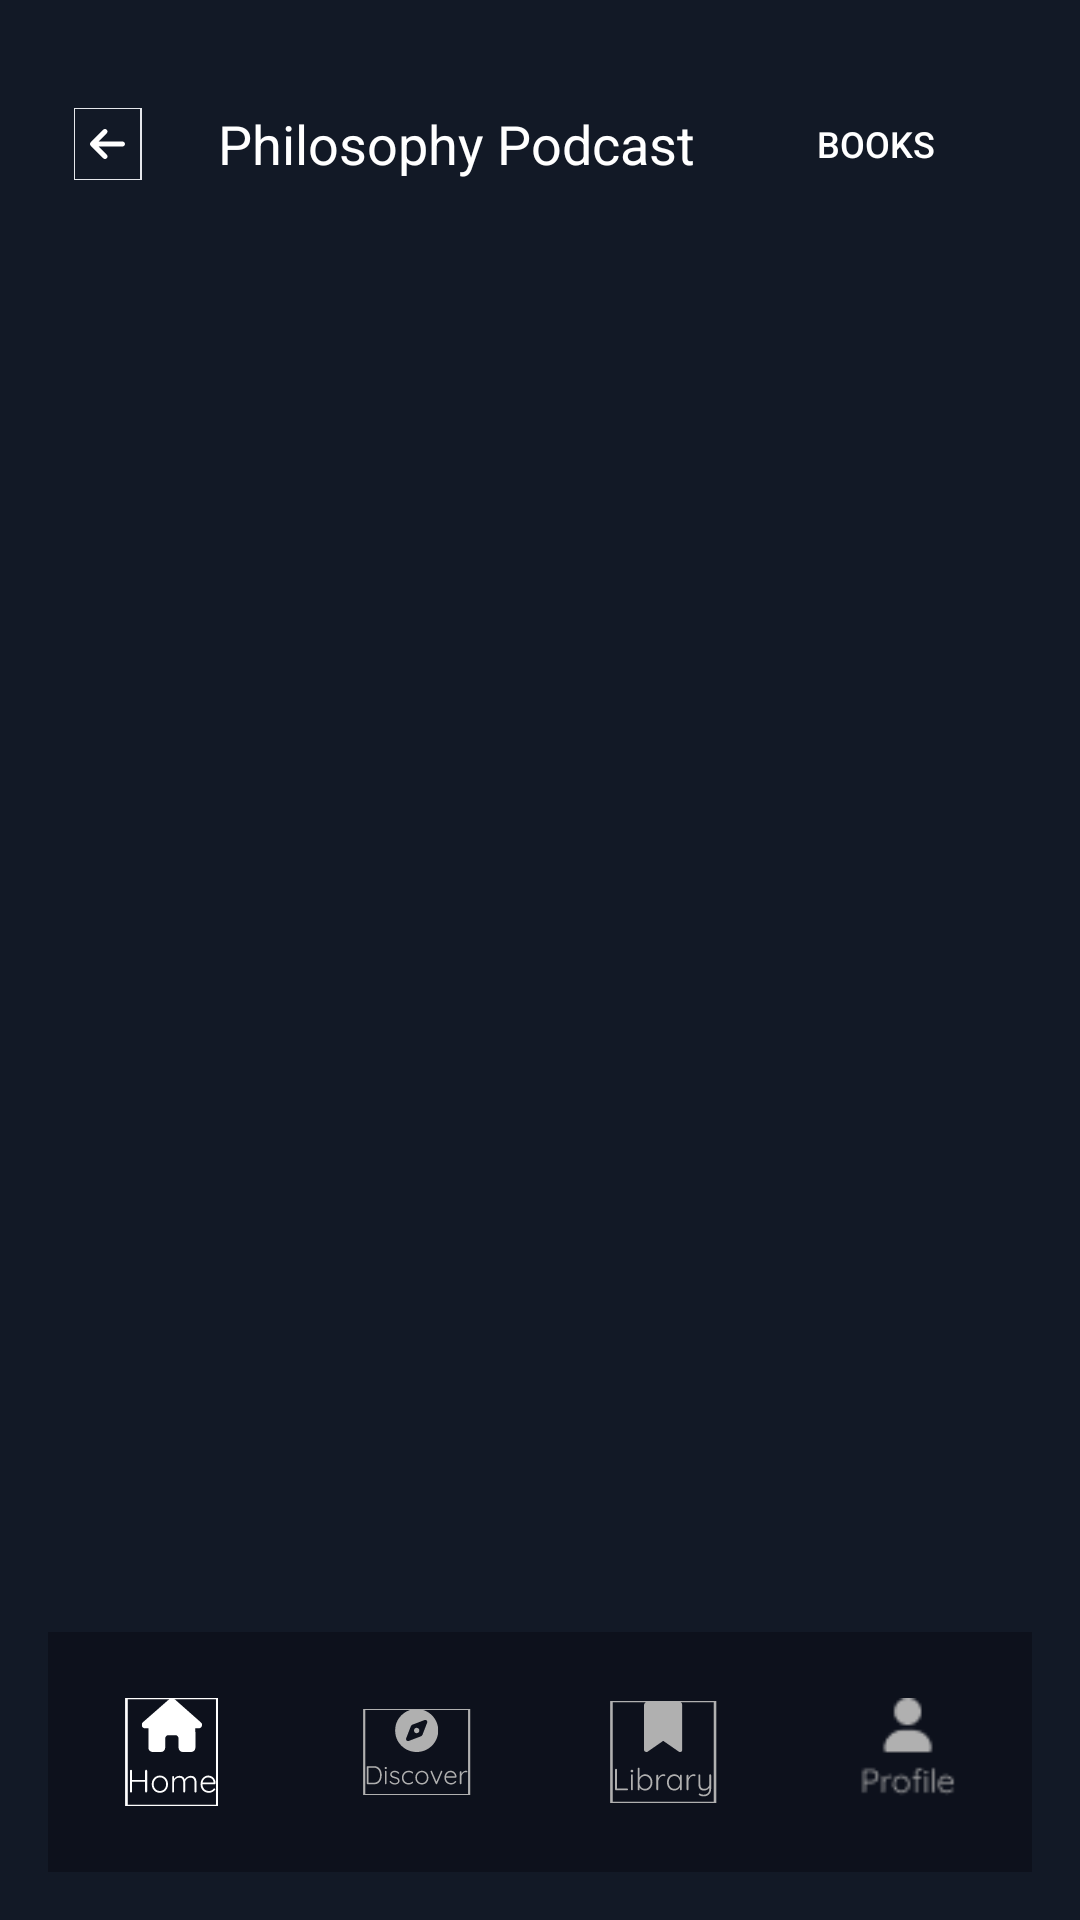

Named icons in this screenshot (1080x1920) and their centers, [x,y]:
backbutt: [108,144]
